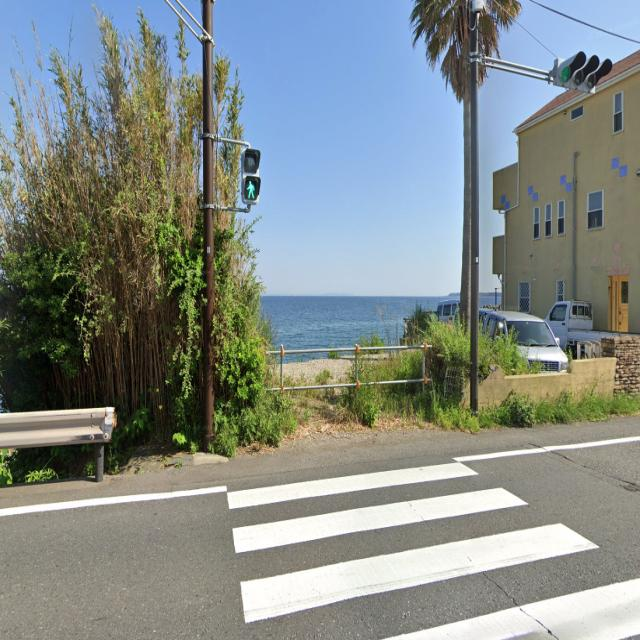traffic-light: (237, 142, 261, 207)
